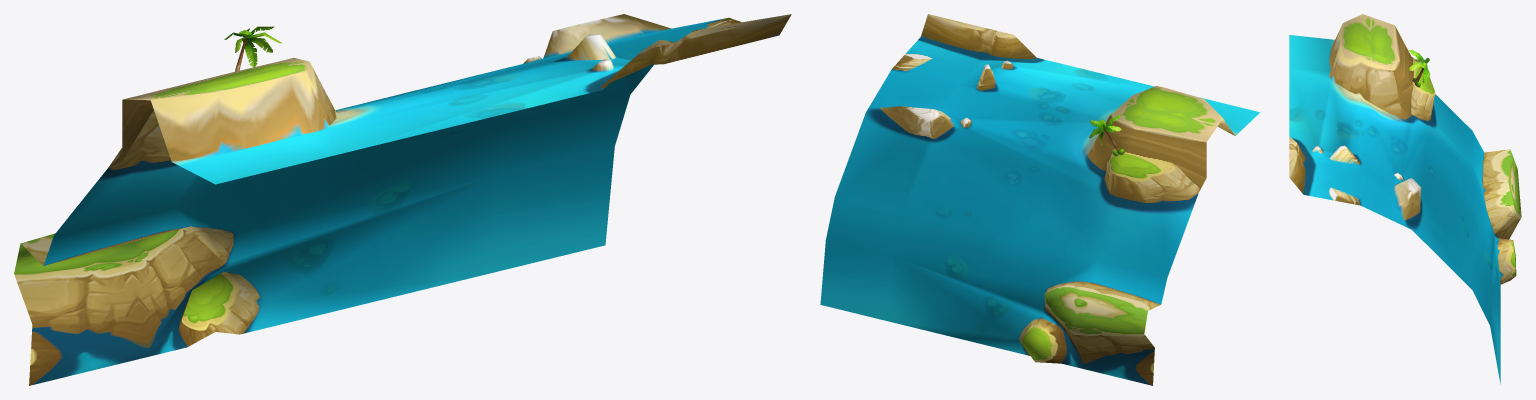
Rendered from Chapter5Model2.FBX.
3 views of the same model, side by side, from view 1: azimuth 30°, elevation 25°; view 2: azimuth 150°, elevation 25°; view 3: azimuth 270°, elevation 25° (orthographic). The views are drawn at different scales.
Visible parts, largest first — view 1: Chapter5Model2Model1, Chapter5Model2Model2; view 2: Chapter5Model2Model1, Chapter5Model2Model2; view 3: Chapter5Model2Model1, Chapter5Model2Model2.
Boxes of the visible parts, box(x1,y1,x2,y2) form: Chapter5Model2Model1: box(14, 14, 791, 385); Chapter5Model2Model2: box(224, 26, 281, 71); Chapter5Model2Model1: box(820, 14, 1259, 385); Chapter5Model2Model2: box(1089, 115, 1121, 151); Chapter5Model2Model1: box(1289, 14, 1521, 384); Chapter5Model2Model2: box(1409, 50, 1430, 83).
Bounding box in the file's own units: 970 × 597 × 618.
